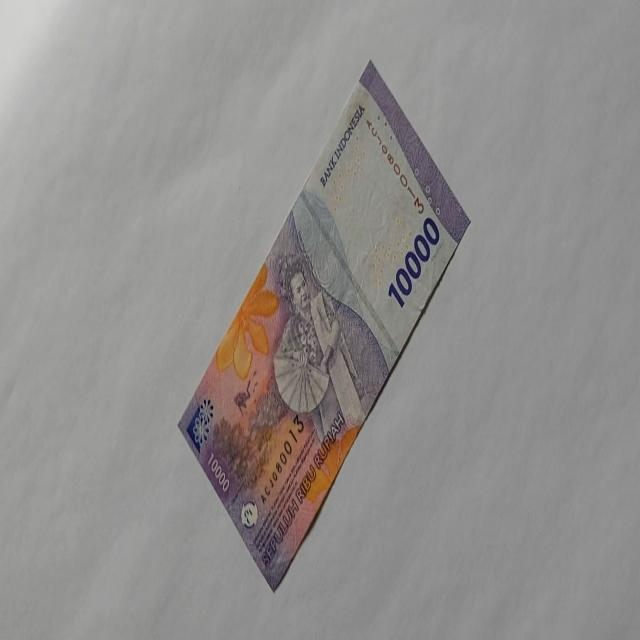sepuluh ribu rupiah: (176, 58, 471, 592), (386, 215, 439, 309)
